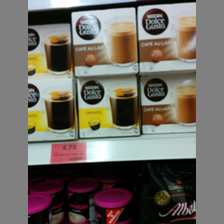coffee: (71, 6, 138, 78), (73, 75, 142, 136), (138, 1, 195, 72), (141, 72, 195, 137), (28, 78, 77, 142), (29, 22, 72, 78)
